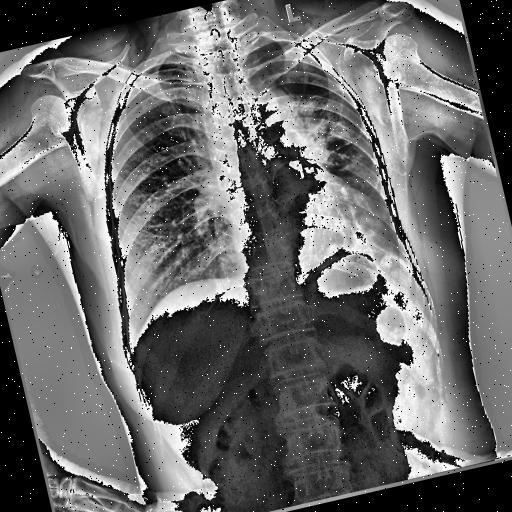0- Aortic enlargement: (242, 84, 304, 160), (242, 86, 302, 148), (246, 88, 296, 132)
13- Pulmonary fibrosis: (288, 87, 374, 198), (285, 88, 372, 186)
3- Cardiomegaly: (226, 176, 388, 282), (228, 190, 392, 280), (230, 188, 385, 275)
4- Consolidation: (287, 100, 329, 168)
6- Infiltration: (288, 87, 374, 198), (285, 88, 372, 186), (300, 94, 359, 164)
